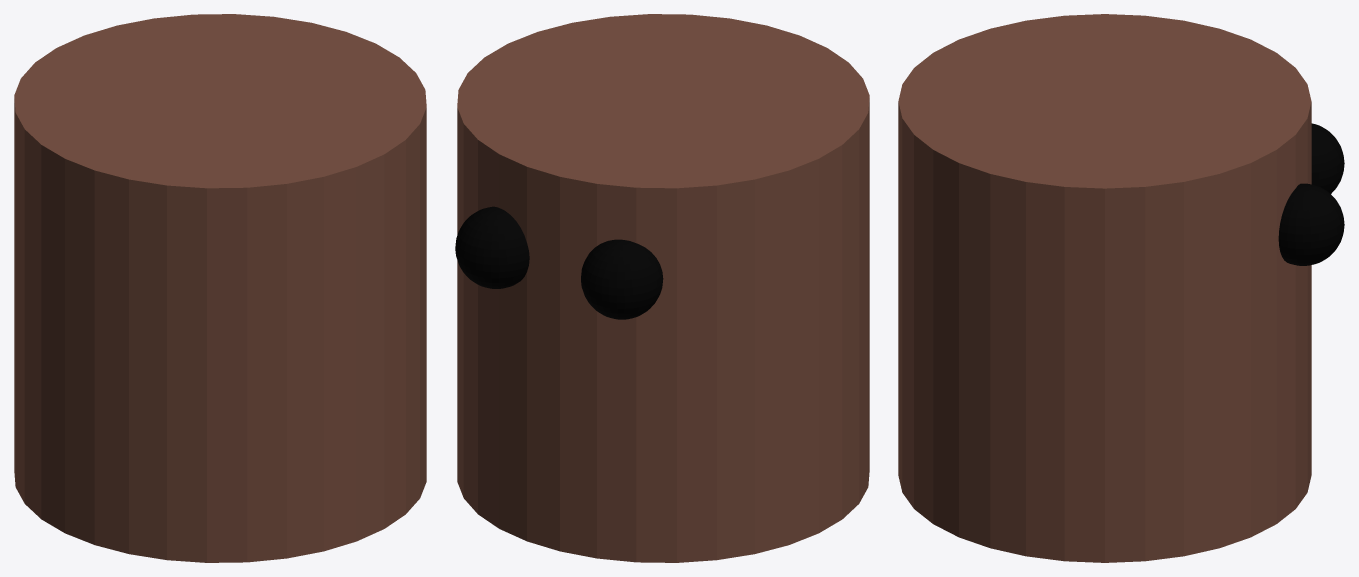
The model's file is Mole.fbx.
3 views of the same model, side by side, from view 1: azimuth 30°, elevation 25°; view 2: azimuth 150°, elevation 25°; view 3: azimuth 270°, elevation 25° (orthographic).
Visible parts, largest first — view 1: Body; view 2: Body, eyeR, eyeL; view 3: Body, eyeL, eyeR.
Boxes of the visible parts, box(x1,y1,x2,y2) form: Body: box(14, 14, 426, 562); Body: box(457, 14, 869, 562); eyeR: box(581, 239, 663, 319); eyeL: box(455, 206, 529, 288); Body: box(898, 14, 1311, 562); eyeL: box(1278, 183, 1344, 265); eyeR: box(1311, 123, 1344, 193).
Bounding box in the file's own units: 100 × 100 × 108.
